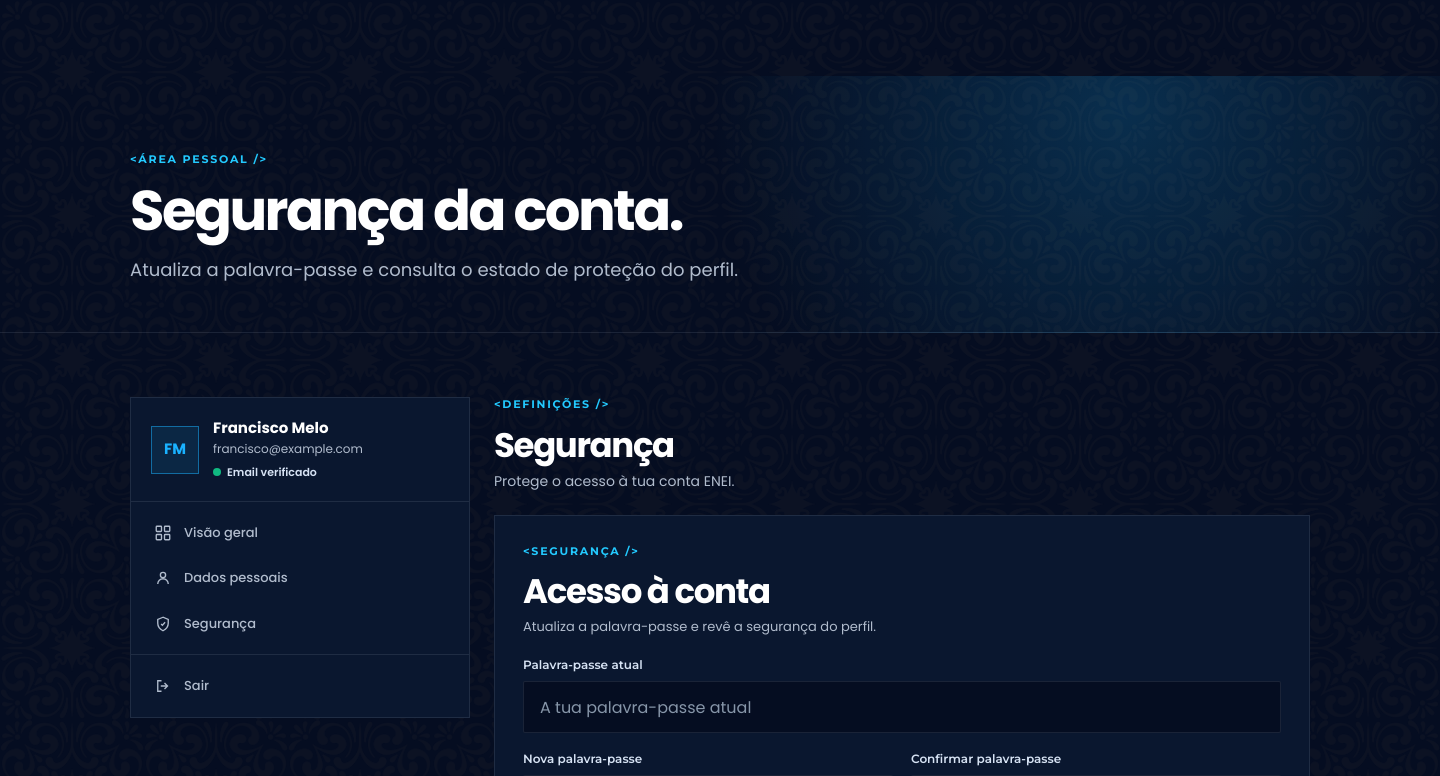
Test case: segurança: a palavra-passe só se diz atualizada se a API a atualizou › palavra-passe atual errada: mostra o erro e não diz que atualizou
The image size is (1440, 776).
Type "Antiga-123!" into the password field labelled "Palavra-passe atual". click: (902, 707)
box: [523,681,1281,733]
(page scrolled)
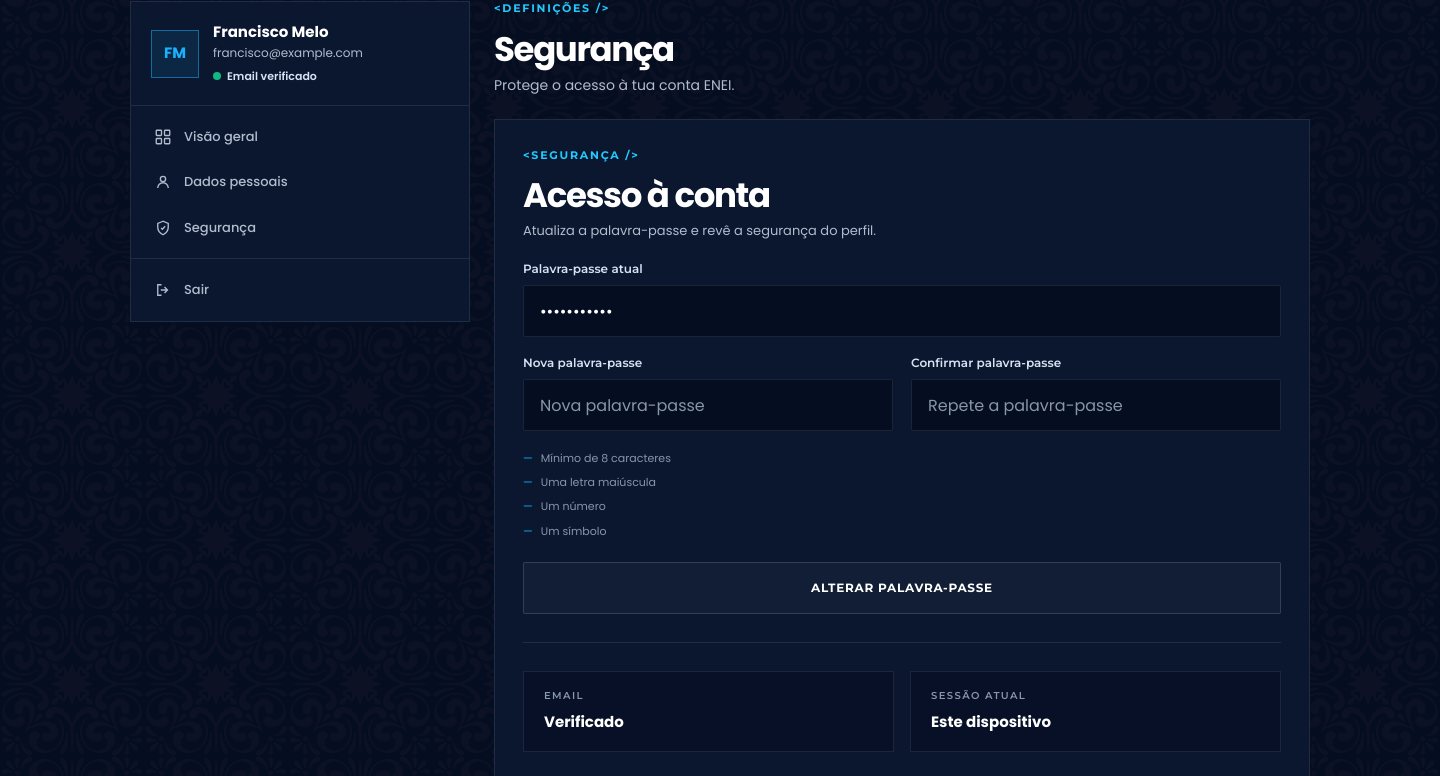
Type "Nova-1234!" into the password field labelled "Nova palavra-passe". click: (708, 405)
box: [523,379,893,431]
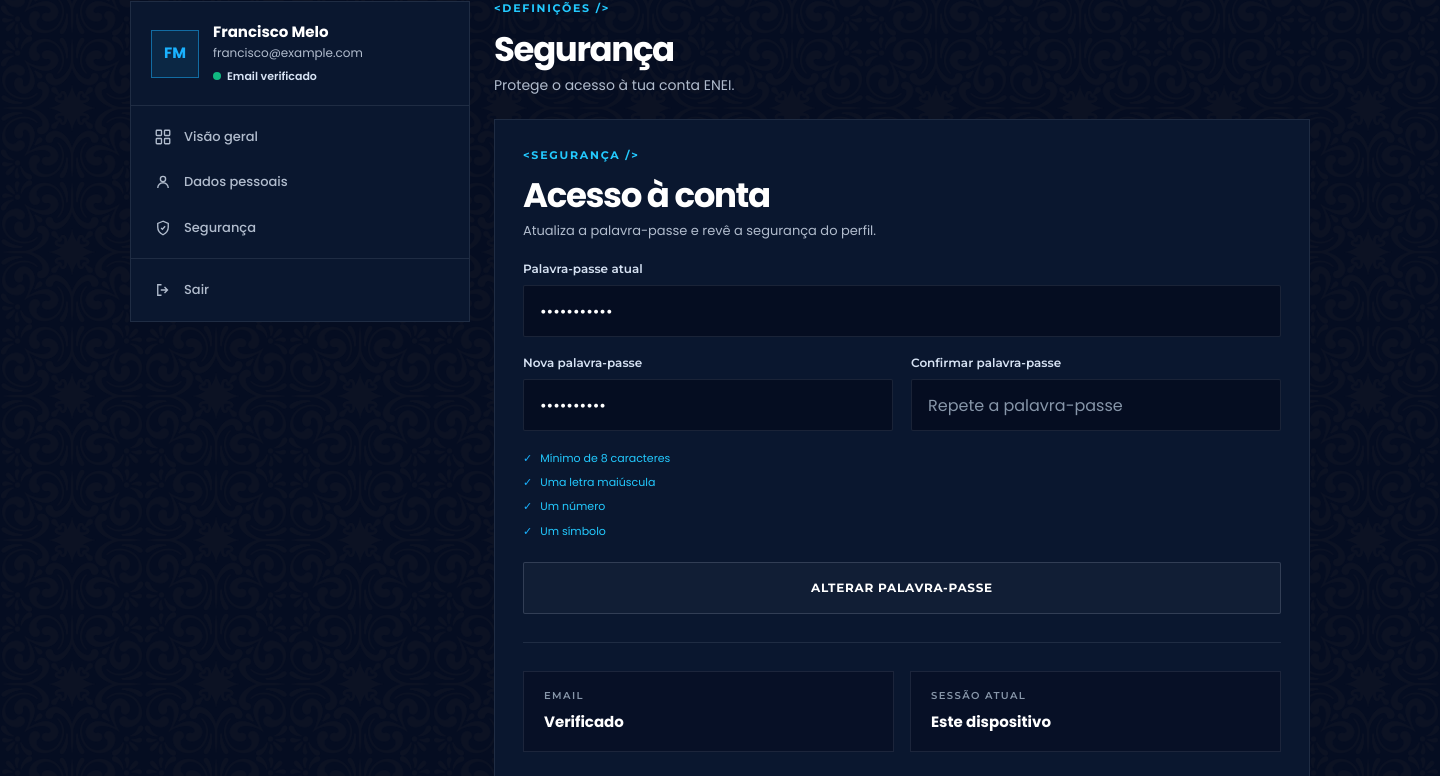
Type "Nova-1234!" into the password field labelled "Confirmar palavra-passe". click: (1096, 405)
box: [911,379,1281,431]
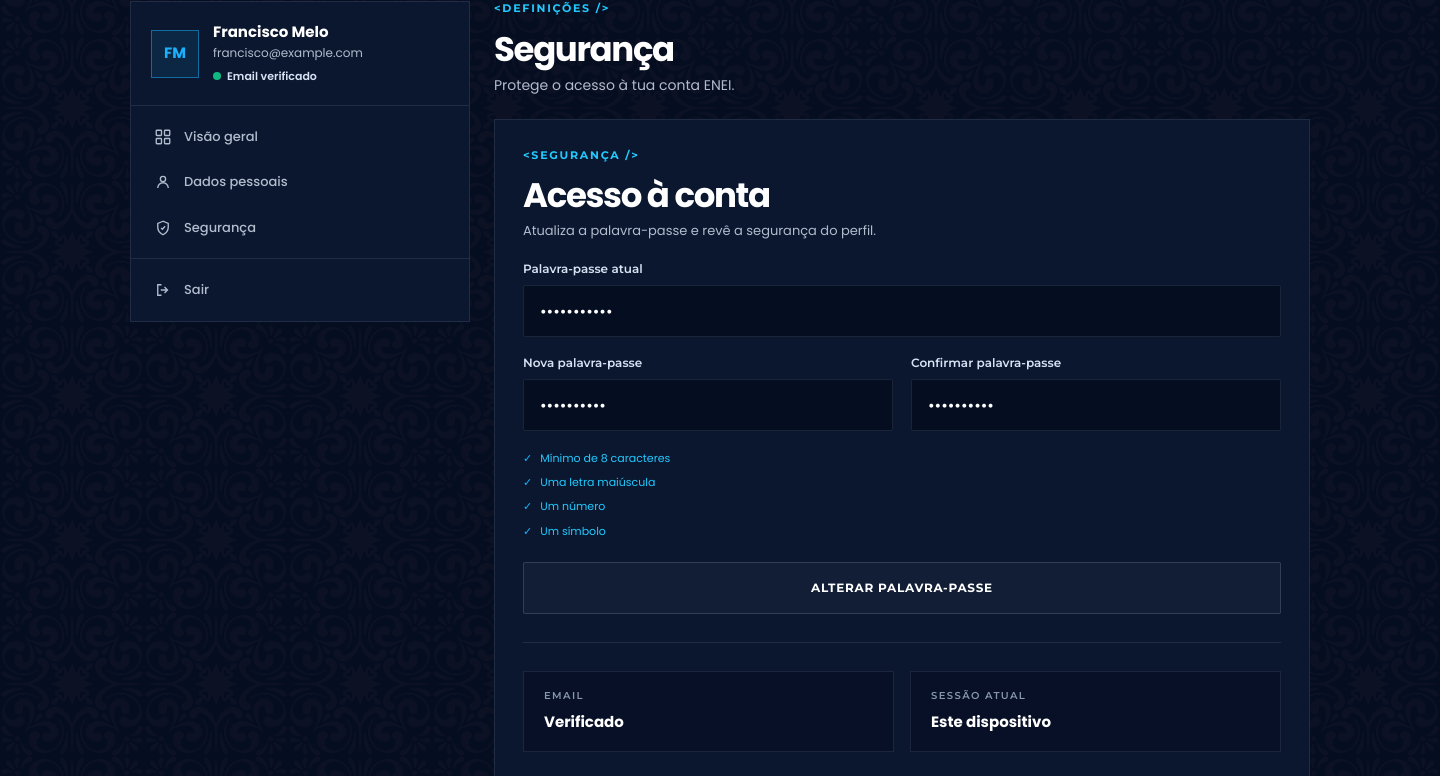
Click the button "Alterar palavra-passe". click: click(902, 588)
box: [523,562,1281,614]
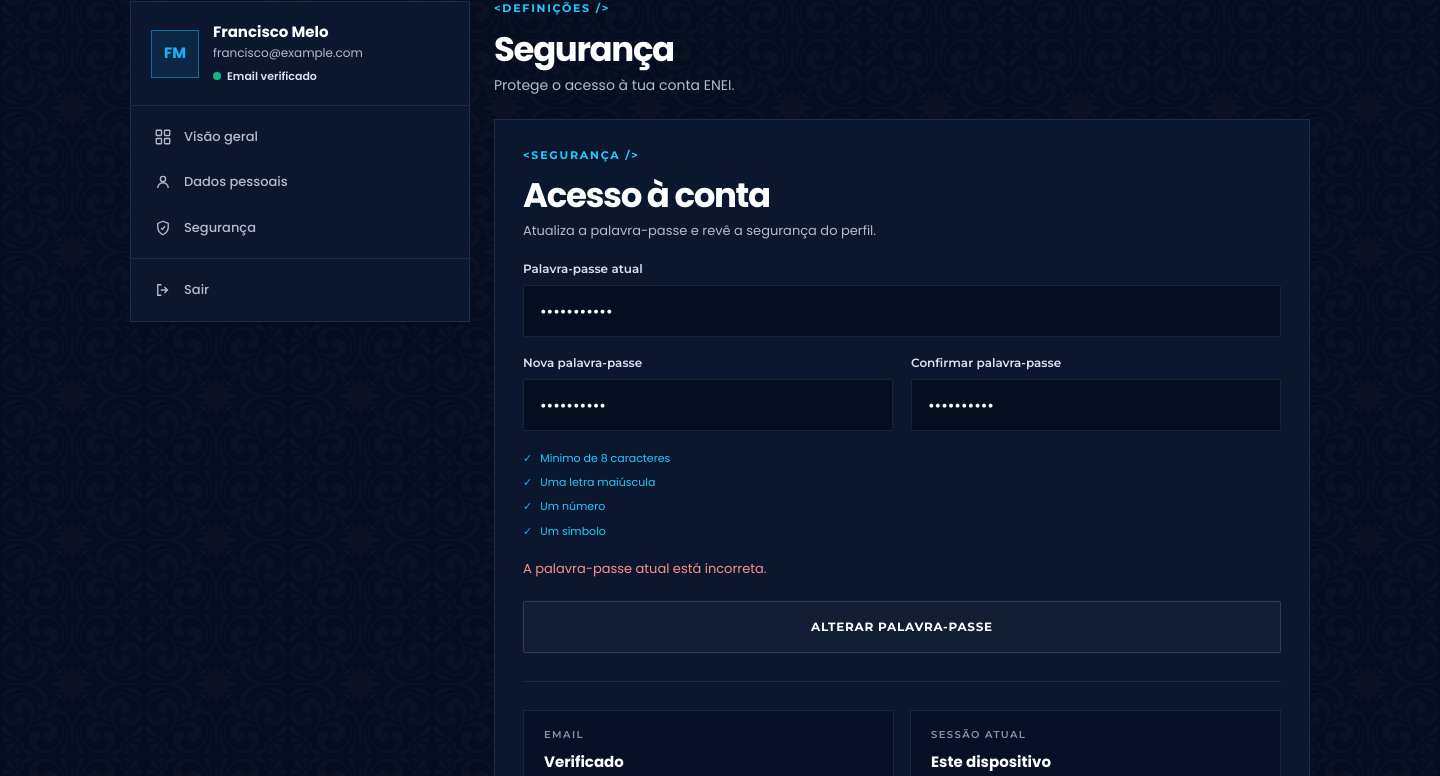
Check: the message reads "A palavra-passe atual está incorreta.", box [523,559,766,578]
